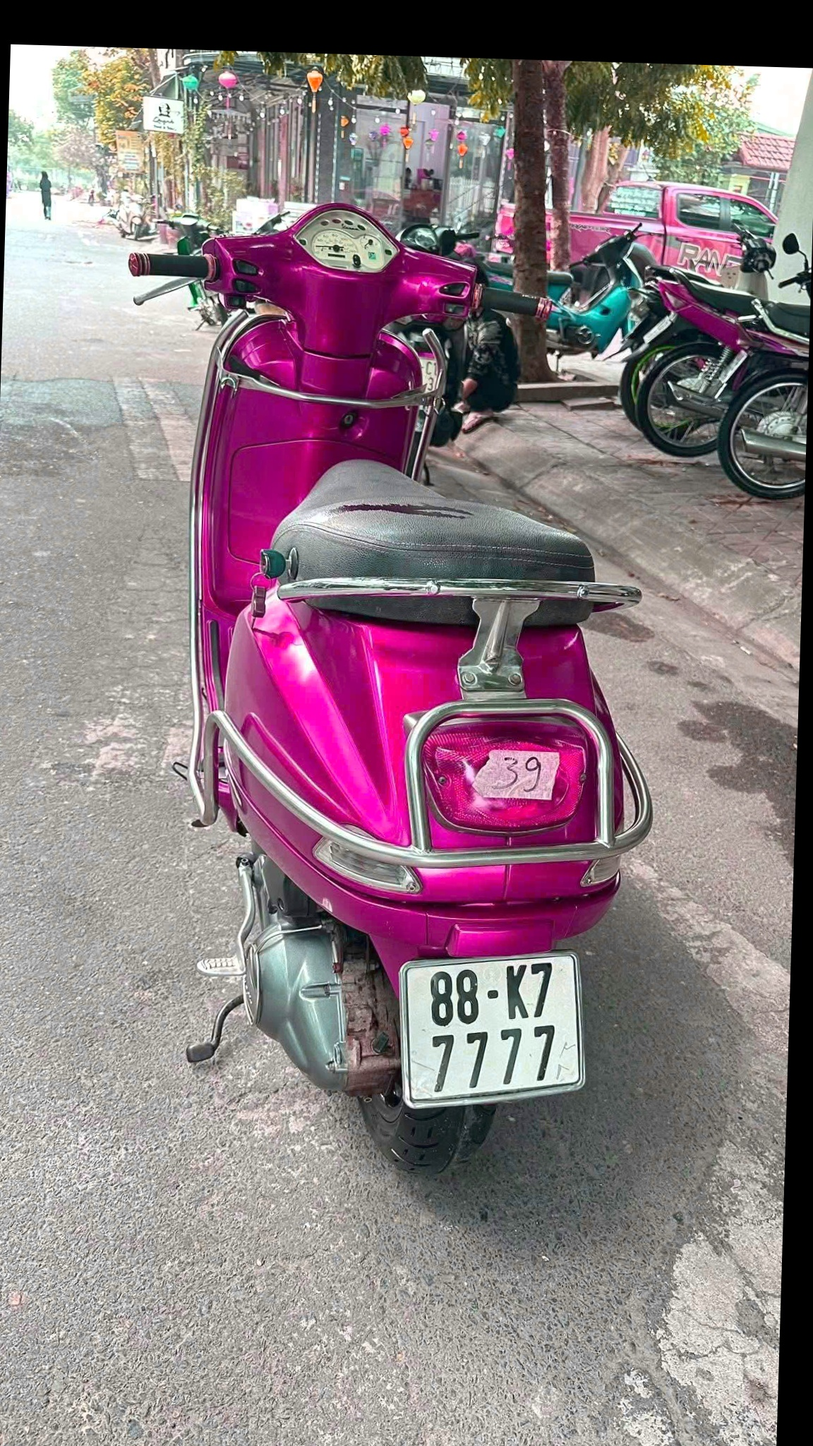Bien-so: (400, 949, 591, 1116)
